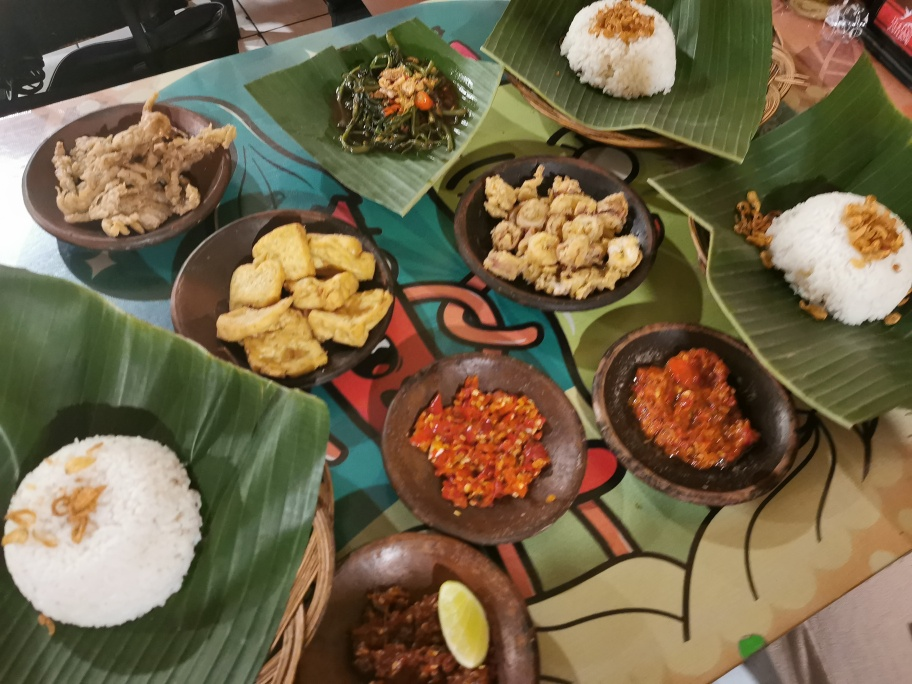nasi putih: (1, 434, 204, 631), (767, 191, 912, 328), (567, 1, 680, 102)
